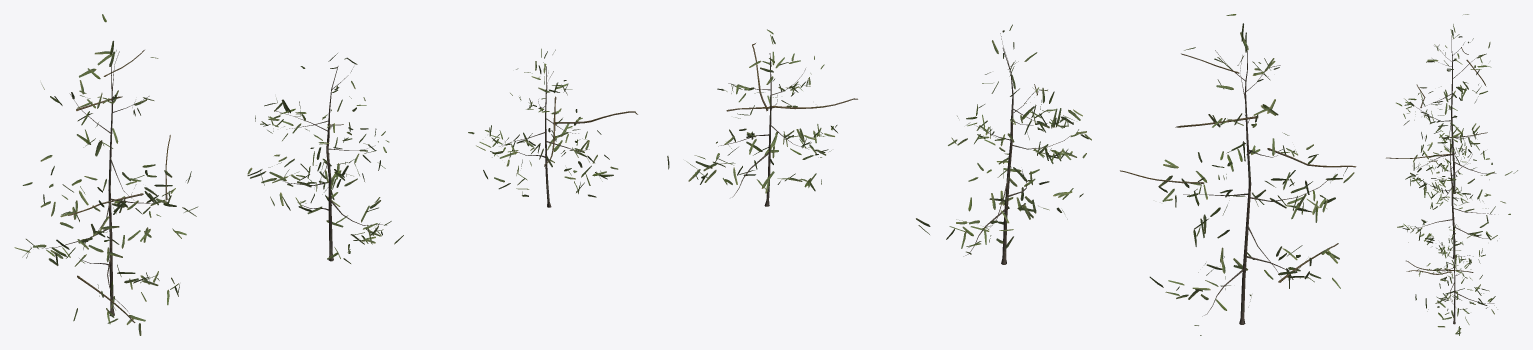
File: fir_sapling.glb
The picture shows the model from 3 angles, left to right: view 1: azimuth 30°, elevation 25°; view 2: azimuth 150°, elevation 25°; view 3: azimuth 270°, elevation 25°; orthographic projection. The views are drawn at different scales.
Visible parts, largest first — view 1: fir_sapling_a, fir_sapling_b, fir_sapling_c, fir_sapling_a.001, fir_sapling_b.001, fir_sapling_c.001; view 2: fir_sapling_a, fir_sapling_b, fir_sapling_c, fir_sapling_a.001, fir_sapling_b.001, fir_sapling_c.001; view 3: fir_sapling_a, fir_sapling_b, fir_sapling_c, fir_sapling_a.001, fir_sapling_b.001, fir_sapling_c.001.
Boxes of the visible parts, left/top/right/bottom form: fir_sapling_a: left=14, top=14, right=198, bottom=335; fir_sapling_b: left=247, top=53, right=403, bottom=263; fir_sapling_c: left=468, top=48, right=637, bottom=197; fir_sapling_a.001: left=38, top=51, right=169, bottom=315; fir_sapling_b.001: left=276, top=66, right=386, bottom=261; fir_sapling_c.001: left=499, top=66, right=589, bottom=207; fir_sapling_a: left=1120, top=14, right=1356, bottom=335; fir_sapling_b: left=916, top=24, right=1091, bottom=254; fir_sapling_c: left=667, top=29, right=857, bottom=193; fir_sapling_a.001: left=1183, top=50, right=1328, bottom=324; fir_sapling_b.001: left=963, top=33, right=1071, bottom=264; fir_sapling_c.001: left=718, top=53, right=808, bottom=206; fir_sapling_a: left=1386, top=14, right=1517, bottom=205; fir_sapling_b: left=1397, top=124, right=1510, bottom=267; fir_sapling_c: left=1406, top=224, right=1497, bottom=335; fir_sapling_a.001: left=1413, top=35, right=1496, bottom=193; fir_sapling_b.001: left=1411, top=139, right=1494, bottom=258; fir_sapling_c.001: left=1436, top=236, right=1494, bottom=324.
Bounding box in the file's own units: 2.72 × 1.28 × 0.8573.
2 materials, 2 textured.
